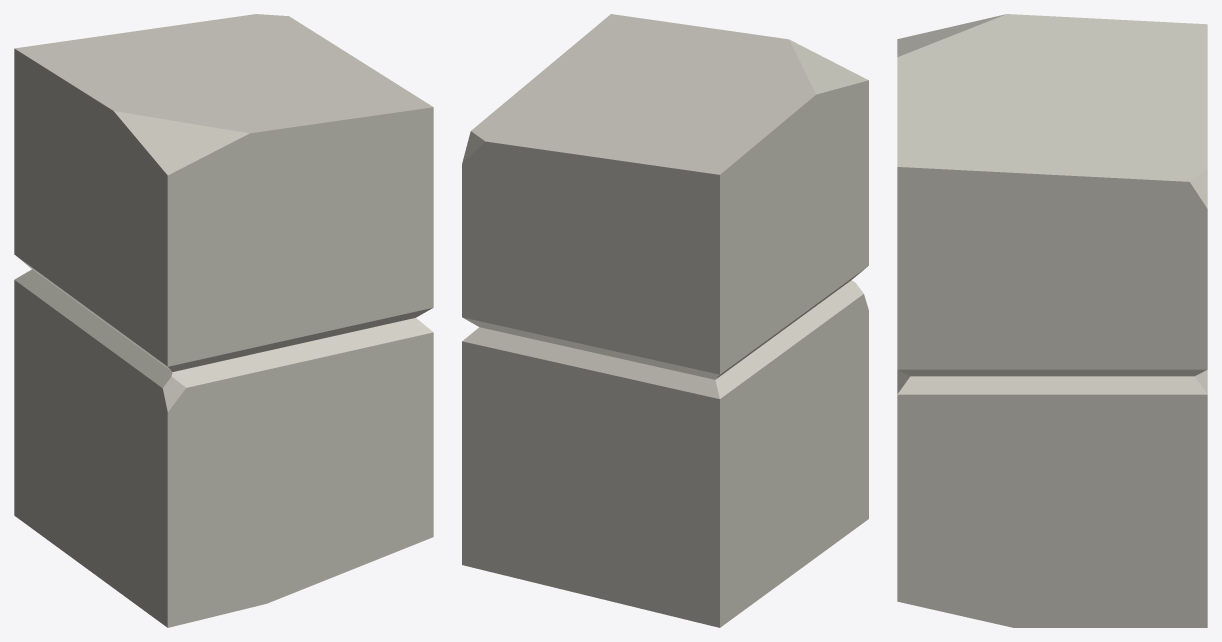
The model's file is Rock_Square_m_18.fbx.
The picture shows the model from 3 angles, left to right: view 1: azimuth 30°, elevation 25°; view 2: azimuth 150°, elevation 25°; view 3: azimuth 270°, elevation 25°; orthographic projection. The views are drawn at different scales.
Parts seen in each view (by area): view 1: Rock_Square_m_18; view 2: Rock_Square_m_18; view 3: Rock_Square_m_18.
Boxes of the visible parts, box(x1,y1,x2,y2) form: Rock_Square_m_18: box(14, 14, 433, 627); Rock_Square_m_18: box(462, 14, 868, 627); Rock_Square_m_18: box(897, 14, 1207, 627).
Size of the model in its own units: 43.2 by 74.11 by 43.2.
